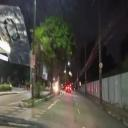NoEstacionar: (99, 60, 103, 70)
